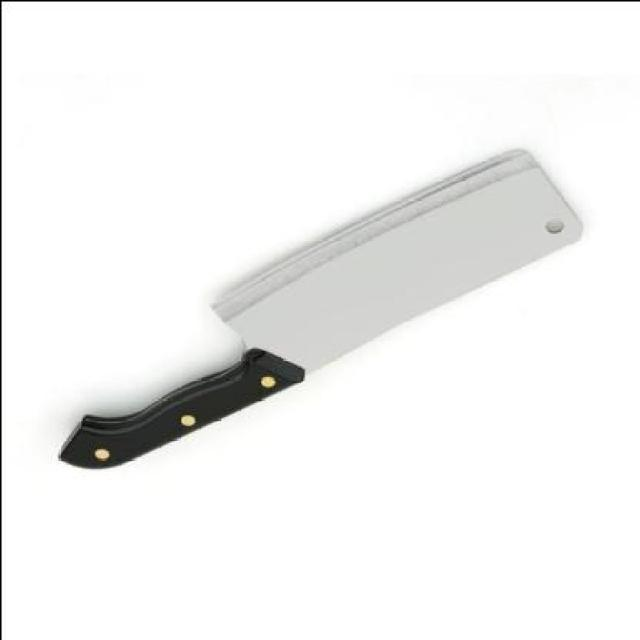weapon: (57, 146, 583, 469)
